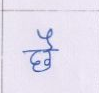ai_matra: (37, 28, 56, 49)
